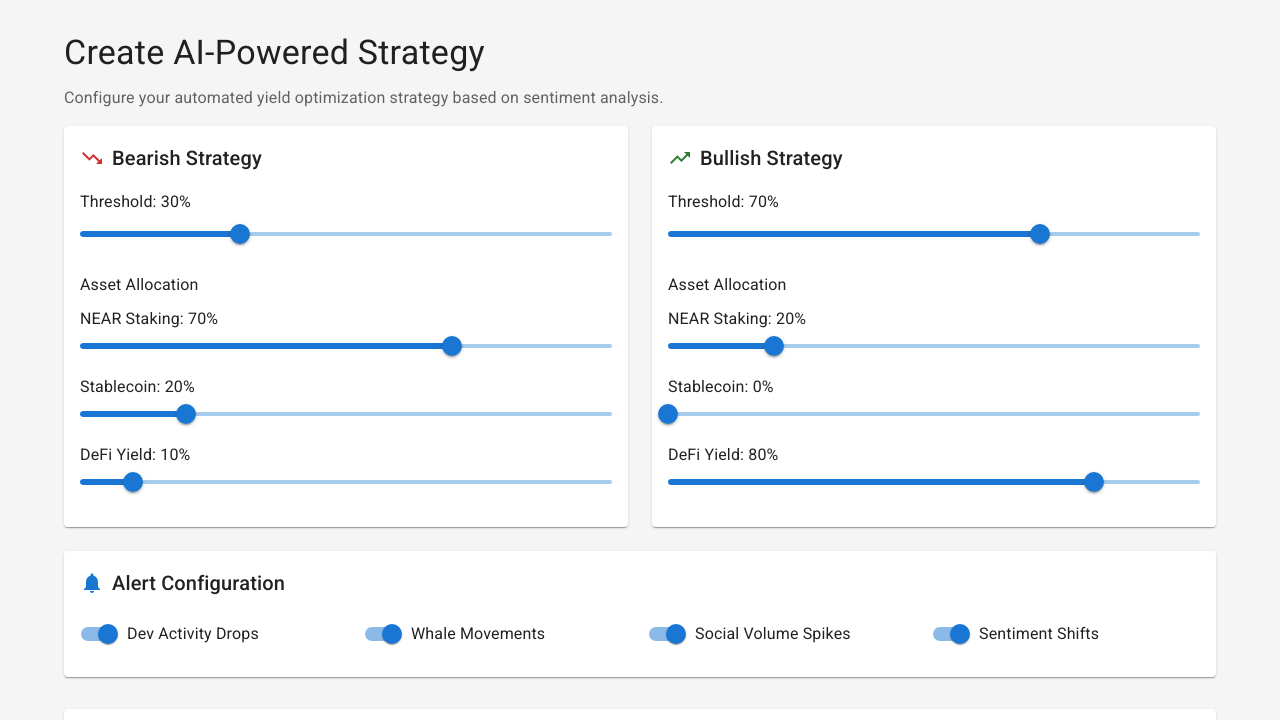
StrategyCreator Component › updates bearish threshold when slider is moved
Set the 1st slider to "40" at (240, 234), box [230,224,250,244]
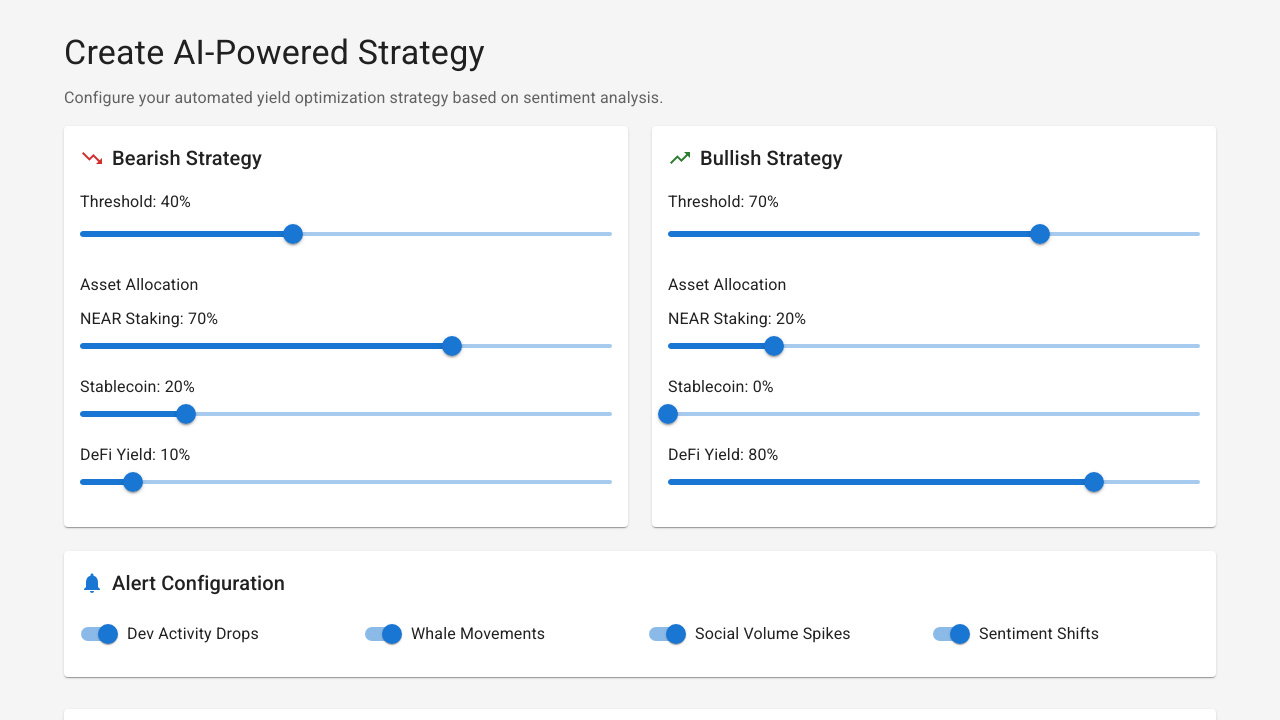
expect the text "Threshold: 40%" is shown: met, box [80,192,191,211]
